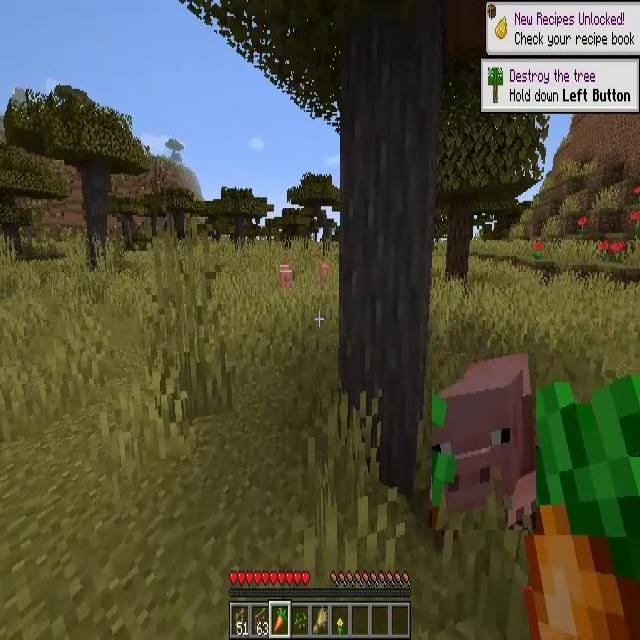pig: (432, 353, 536, 530), (278, 262, 292, 289)
